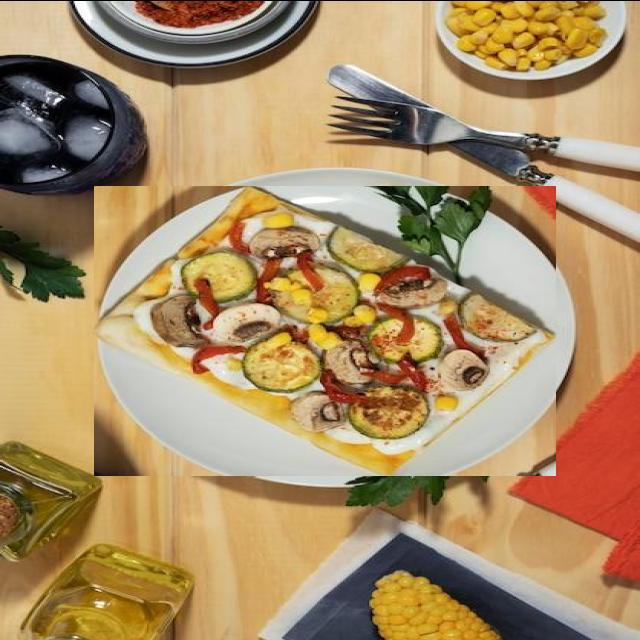pizza: (94, 185, 556, 475)
